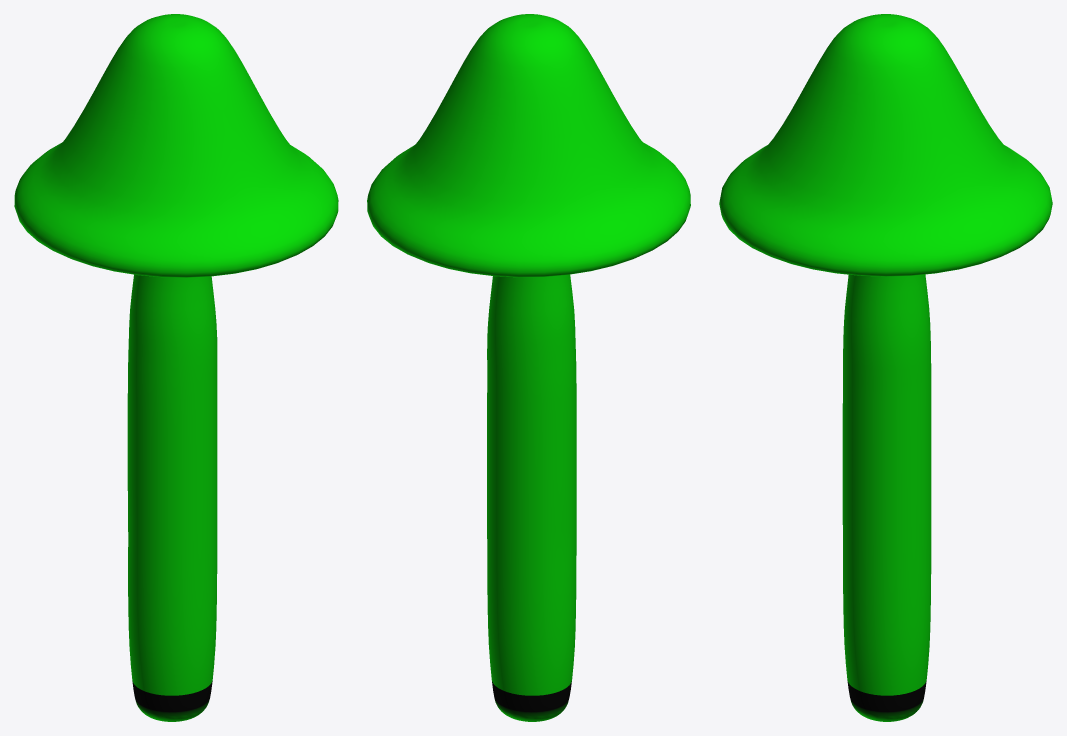
Rendered from Gnoomeshead_shroom_4.fbx.
3 renders of one model, left to right at view 1: azimuth 30°, elevation 25°; view 2: azimuth 150°, elevation 25°; view 3: azimuth 270°, elevation 25°, orthographic.
Parts seen in each view (by area): view 1: polySurface24; view 2: polySurface24; view 3: polySurface24.
Boxes of the visible parts, <box> form: polySurface24: <box>14,14,338,721</box>; polySurface24: <box>367,14,690,721</box>; polySurface24: <box>719,14,1052,721</box>.
Size of the model in its own units: 0.7305 by 1.73 by 0.7535.
